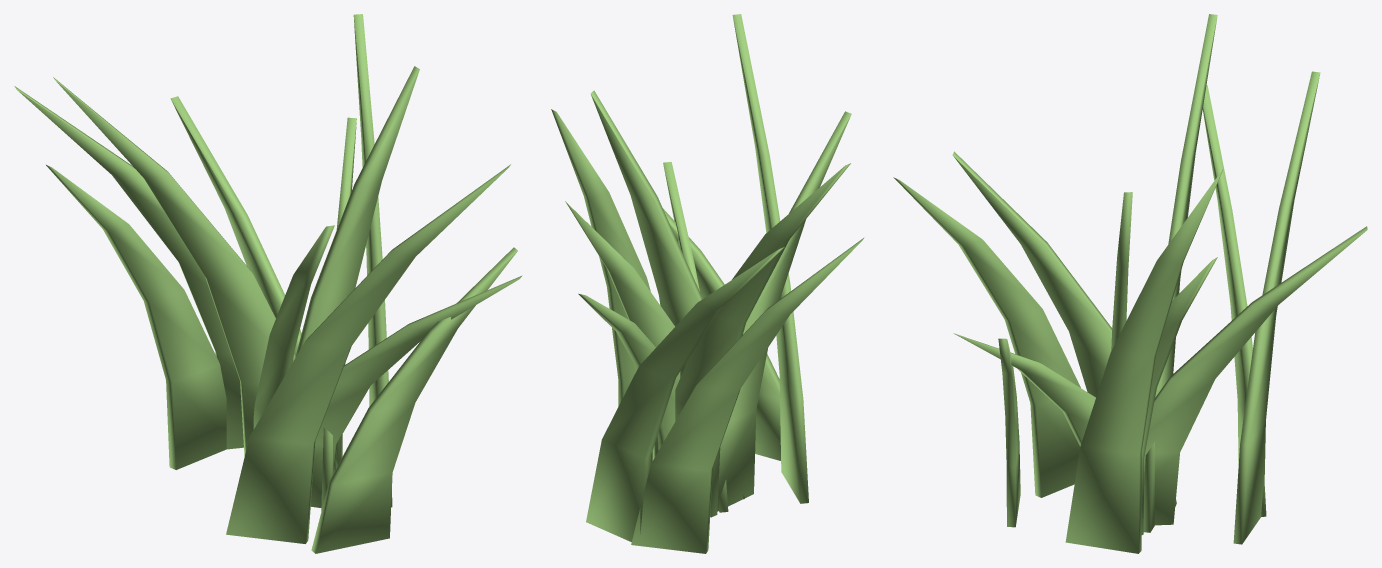
File: decor_grass.fbx
The picture shows the model from 3 angles, left to right: view 1: azimuth 30°, elevation 25°; view 2: azimuth 150°, elevation 25°; view 3: azimuth 270°, elevation 25°; orthographic projection. The views are drawn at different scales.
Visible parts, largest first — view 1: DecorGrass; view 2: DecorGrass; view 3: DecorGrass.
Boxes of the visible parts, x1,y1,x2,y2 form: DecorGrass: [14, 14, 522, 553]; DecorGrass: [551, 14, 864, 553]; DecorGrass: [893, 14, 1367, 553].
Size of the model in its own units: 0.1765 by 0.2025 by 0.2131.
